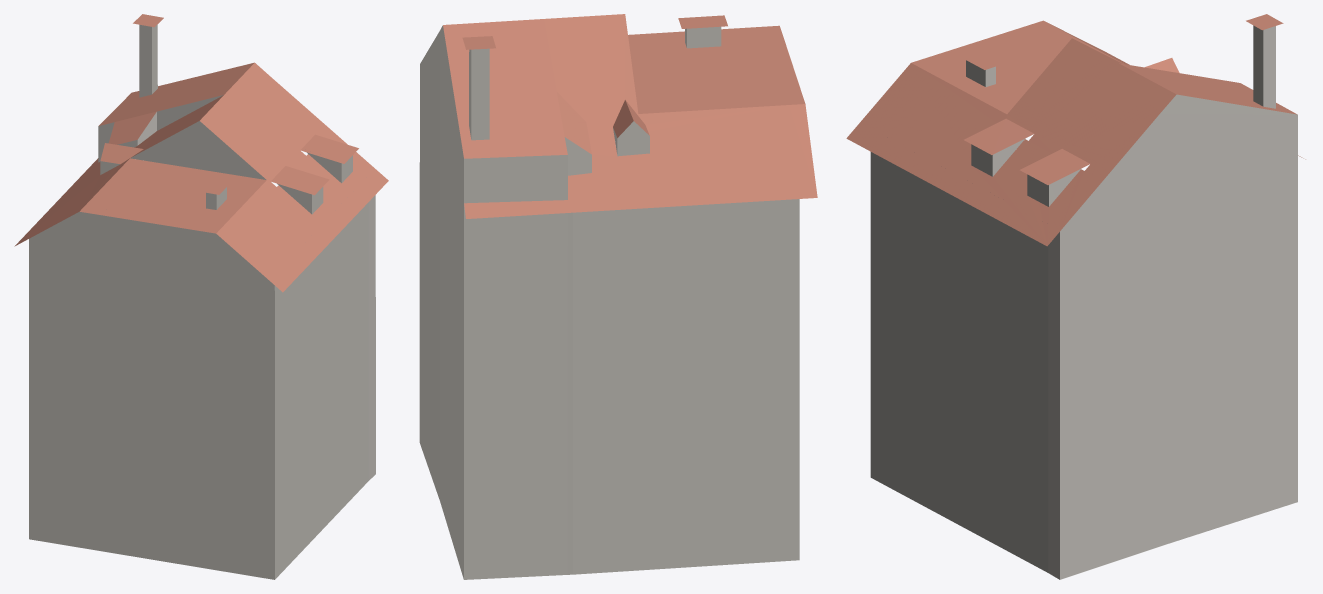
3 renders of one model, left to right at view 1: azimuth 30°, elevation 25°; view 2: azimuth 150°, elevation 25°; view 3: azimuth 270°, elevation 25°, orthographic. The views are drawn at different scales.
Parts seen in each view (by area): view 1: swisstopo:swissbuildings3d:67c477d9-554a-48ab-974f-2b14c23e1; view 2: swisstopo:swissbuildings3d:67c477d9-554a-48ab-974f-2b14c23e1; view 3: swisstopo:swissbuildings3d:67c477d9-554a-48ab-974f-2b14c23e1.
Part boxes in pixels (x1,y1,x2,y2): swisstopo:swissbuildings3d:67c477d9-554a-48ab-974f-2b14c23e1: [14, 14, 388, 579]; swisstopo:swissbuildings3d:67c477d9-554a-48ab-974f-2b14c23e1: [419, 14, 817, 579]; swisstopo:swissbuildings3d:67c477d9-554a-48ab-974f-2b14c23e1: [846, 14, 1305, 579].
Bounding box in the file's own units: 20.68 × 23.9 × 20.81.
